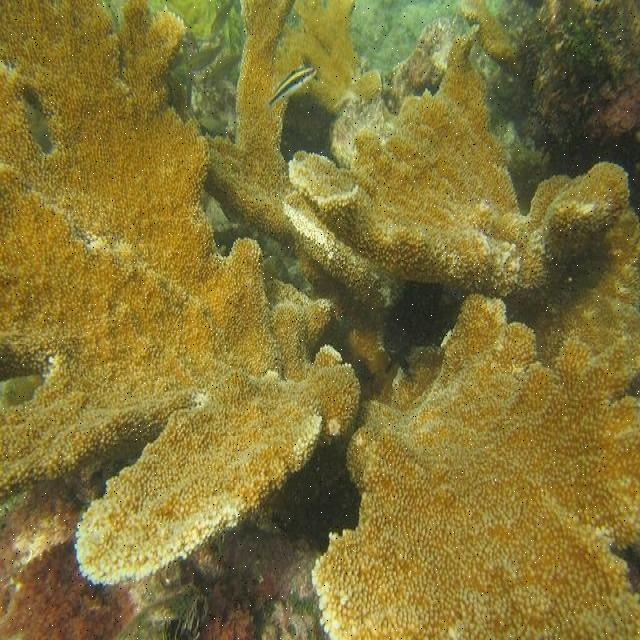fish: (269, 66, 319, 107)
reefs: (0, 0, 639, 639)
